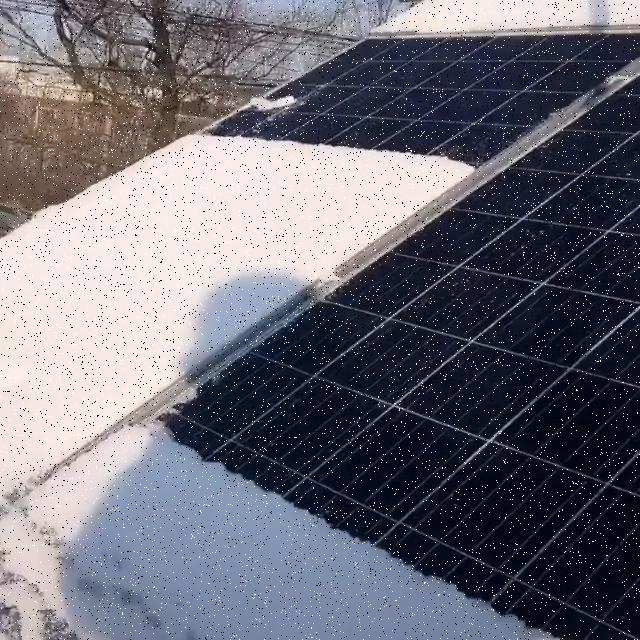snow covered: (160, 34, 611, 211)
